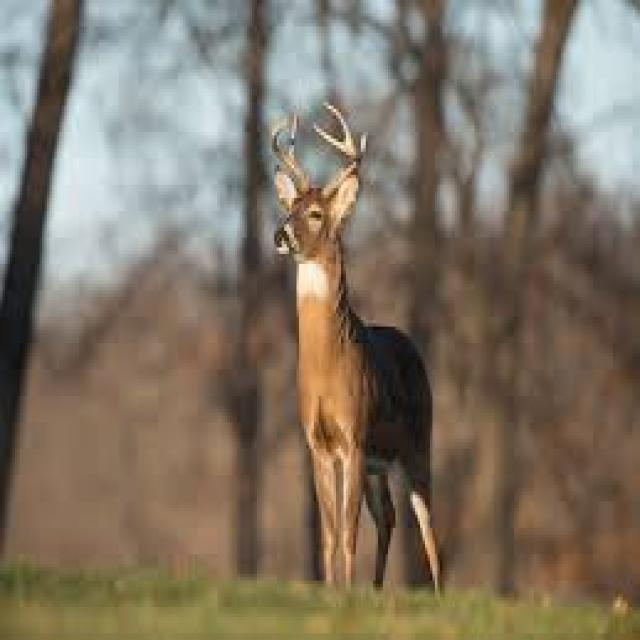Deer: (264, 93, 448, 592)
